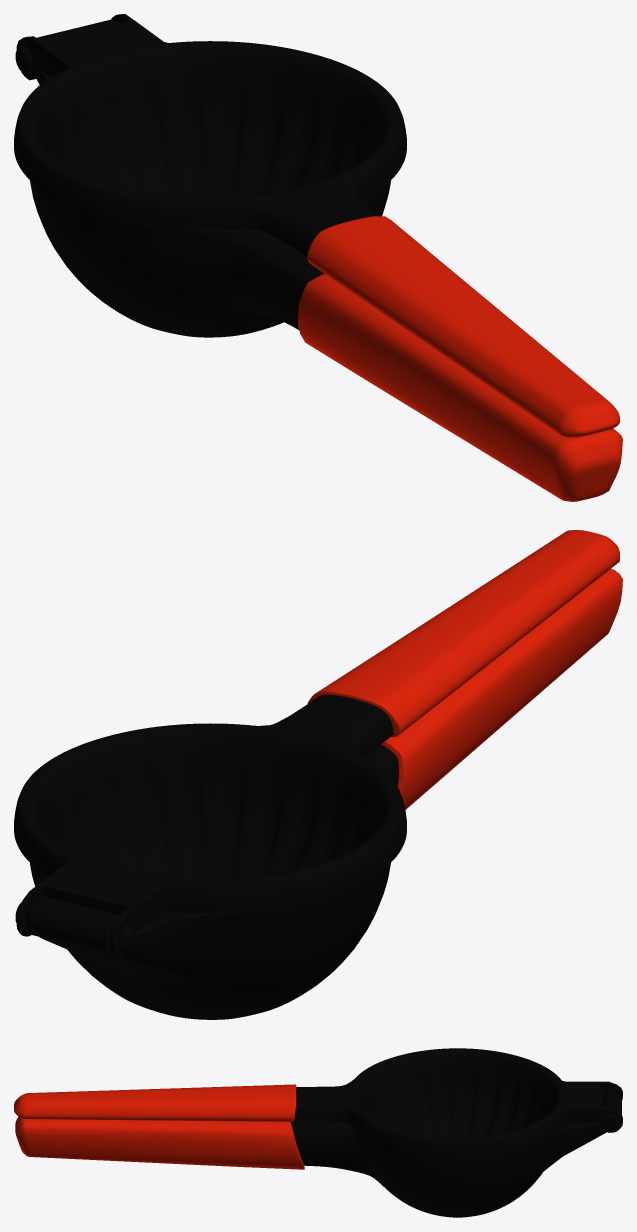
The model's file is Handheld_Squeeze_Press.FBX.
The picture shows the model from 3 angles, top to bottom: view 1: azimuth 30°, elevation 25°; view 2: azimuth 150°, elevation 25°; view 3: azimuth 270°, elevation 25°; orthographic projection. The views are drawn at different scales.
Visible parts, largest first — view 1: Handheld Squeeze Press A, Handheld Squeeze Press B; view 2: Handheld Squeeze Press A, Handheld Squeeze Press B; view 3: Handheld Squeeze Press A, Handheld Squeeze Press B.
Part boxes in pixels (left/top/right/bottom): Handheld Squeeze Press A: left=14, top=14, right=619, bottom=437; Handheld Squeeze Press B: left=30, top=20, right=622, bottom=501; Handheld Squeeze Press A: left=14, top=530, right=619, bottom=959; Handheld Squeeze Press B: left=25, top=568, right=622, bottom=1019; Handheld Squeeze Press A: left=14, top=1048, right=622, bottom=1156; Handheld Squeeze Press B: left=15, top=1087, right=615, bottom=1217.
Bounding box in the file's own units: 82.85 × 47.45 × 225.
